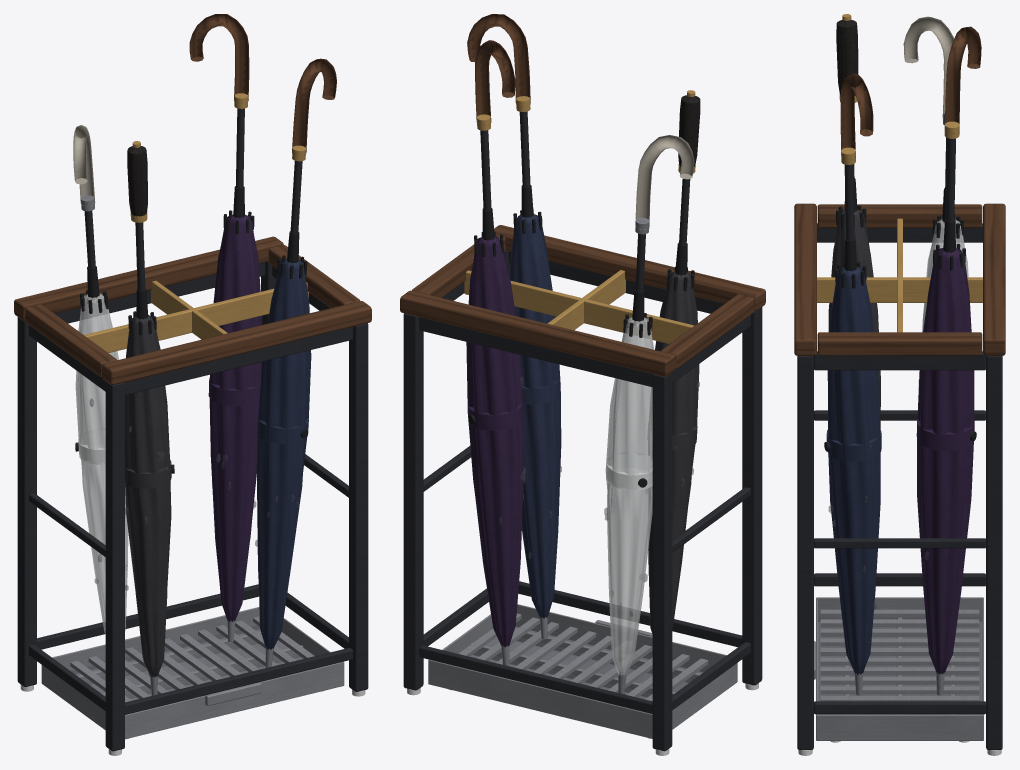
Rendered from umbrella_stand.glb.
3 views of the same model, side by side, from view 1: azimuth 30°, elevation 25°; view 2: azimuth 150°, elevation 25°; view 3: azimuth 270°, elevation 25° (orthographic). The views are drawn at different scales.
Parts seen in each view (by area): view 1: frame_graphite_0, tray_steel_brushed_0, umbrella_1_fabric_indigo_1, umbrella_3_fabric_plum_1, umbrella_2_fabric_charcoal_1, rim_wood_walnut_1, umbrella_4_glass_frosted_1, frame_brass_2, rim_wood_walnut_0, rim_wood_walnut_2, umbrella_3_wood_walnut_7, tray_glass_tint_2 (+10 smaller); view 2: frame_graphite_0, tray_steel_brushed_0, umbrella_3_fabric_plum_1, umbrella_4_glass_frosted_1, umbrella_1_fabric_indigo_1, rim_wood_walnut_0, umbrella_2_fabric_charcoal_1, frame_brass_2, rim_wood_walnut_1, rim_wood_walnut_2, umbrella_1_wood_walnut_7, tray_glass_tint_2 (+9 smaller); view 3: frame_graphite_0, tray_steel_brushed_0, umbrella_3_fabric_plum_1, umbrella_1_fabric_indigo_1, rim_wood_walnut_3, rim_wood_walnut_0, rim_wood_walnut_1, tray_glass_tint_2, frame_brass_2, rim_wood_walnut_2, umbrella_3_wood_walnut_7, umbrella_1_wood_walnut_7 (+10 smaller).
Boxes of the visible parts, left/top/right/bottom form: frame_graphite_0: left=17, top=261, right=368, bottom=751; tray_steel_brushed_0: left=41, top=607, right=344, bottom=739; umbrella_1_fabric_indigo_1: left=257, top=259, right=311, bottom=649; umbrella_3_fabric_plum_1: left=209, top=214, right=262, bottom=621; umbrella_2_fabric_charcoal_1: left=125, top=315, right=171, bottom=677; rim_wood_walnut_1: left=102, top=301, right=371, bottom=384; umbrella_4_glass_frosted_1: left=75, top=293, right=128, bottom=634; frame_brass_2: left=84, top=280, right=308, bottom=352; rim_wood_walnut_0: left=14, top=236, right=283, bottom=320; rim_wood_walnut_2: left=25, top=304, right=116, bottom=377; umbrella_3_wood_walnut_7: left=189, top=14, right=249, bottom=103; tray_glass_tint_2: left=71, top=625, right=302, bottom=700; frame_graphite_0: left=403, top=250, right=762, bottom=751; tray_steel_brushed_0: left=428, top=604, right=737, bottom=738; umbrella_3_fabric_plum_1: left=466, top=236, right=523, bottom=647; umbrella_4_glass_frosted_1: left=605, top=317, right=654, bottom=675; umbrella_1_fabric_indigo_1: left=509, top=214, right=561, bottom=618; rim_wood_walnut_0: left=400, top=290, right=675, bottom=376; umbrella_2_fabric_charcoal_1: left=648, top=271, right=699, bottom=633; frame_brass_2: left=464, top=270, right=694, bottom=343; rim_wood_walnut_1: left=494, top=225, right=765, bottom=310; rim_wood_walnut_2: left=661, top=294, right=754, bottom=368; umbrella_1_wood_walnut_7: left=467, top=14, right=530, bottom=106; tray_glass_tint_2: left=470, top=622, right=707, bottom=699; frame_graphite_0: left=797, top=223, right=1002, bottom=749; tray_steel_brushed_0: left=814, top=597, right=983, bottom=740; umbrella_3_fabric_plum_1: left=917, top=248, right=974, bottom=674; umbrella_1_fabric_indigo_1: left=827, top=266, right=880, bottom=674; rim_wood_walnut_3: left=817, top=332, right=982, bottom=355; rim_wood_walnut_0: left=983, top=203, right=1005, bottom=355; rim_wood_walnut_1: left=794, top=203, right=816, bottom=355; tray_glass_tint_2: left=818, top=616, right=981, bottom=714; frame_brass_2: left=817, top=218, right=982, bottom=332; rim_wood_walnut_2: left=817, top=204, right=982, bottom=227; umbrella_3_wood_walnut_7: left=944, top=26, right=981, bottom=133; umbrella_1_wood_walnut_7: left=840, top=73, right=873, bottom=159.
Size of what is drawn, in the model's own units: 0.43 by 1.01 by 0.28.
14 materials, 12 textured.
